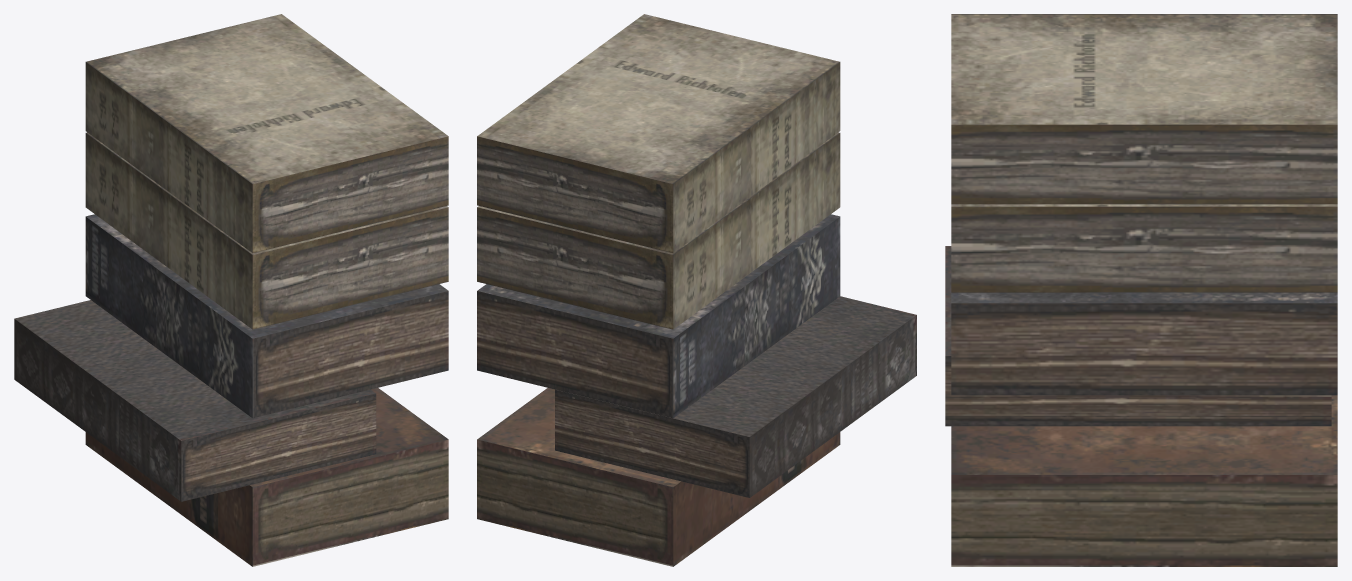
The model's file is p_glo_books_row03_LOD0.obj.
The picture shows the model from 3 angles, left to right: view 1: azimuth 30°, elevation 25°; view 2: azimuth 150°, elevation 25°; view 3: azimuth 270°, elevation 25°; orthographic projection. The views are drawn at different scales.
Visible parts, largest first — view 1: mtl_p_glo_books; view 2: mtl_p_glo_books; view 3: mtl_p_glo_books.
Part boxes in pixels (x1,y1,x2,y2): mtl_p_glo_books: [14, 14, 448, 566]; mtl_p_glo_books: [477, 14, 916, 566]; mtl_p_glo_books: [945, 14, 1337, 566].
Bounding box in the file's own units: 19.09 × 25.86 × 20.77.
